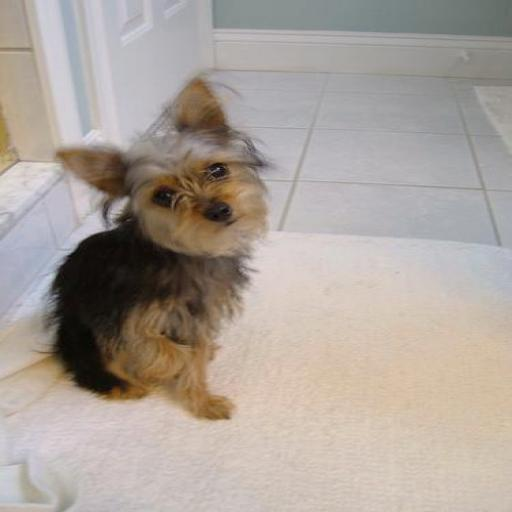dog_face: (57, 82, 260, 260)
